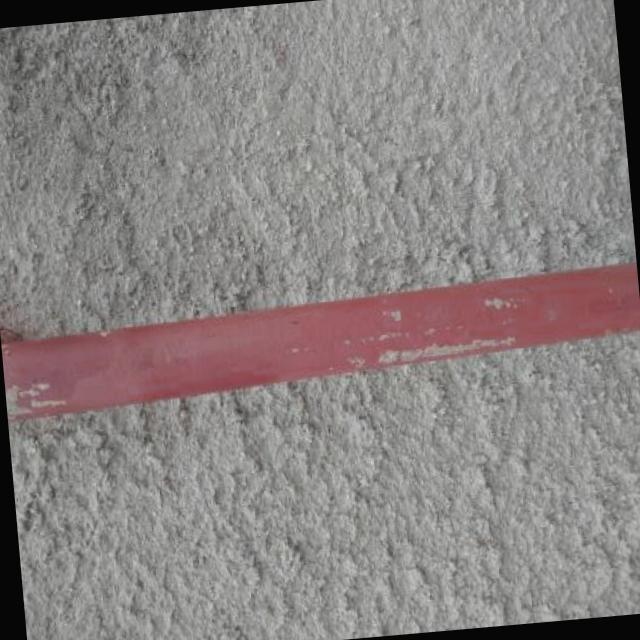gas: (0, 260, 640, 420)
